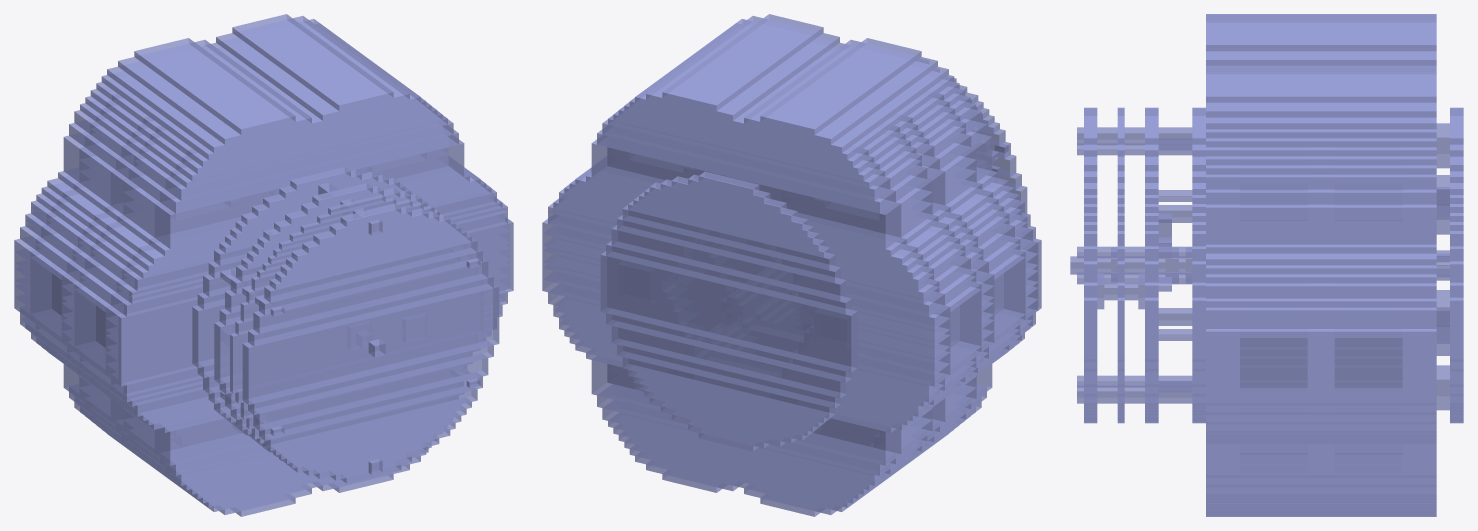
3 renders of one model, left to right at view 1: azimuth 30°, elevation 25°; view 2: azimuth 150°, elevation 25°; view 3: azimuth 270°, elevation 25°, orthographic. The views are drawn at different scales.
Visible parts, largest first — view 1: cell_union_687, cell_union_531, cell_union_499, cell_union_504, cell_union_502, cell_union_539, cell_union_501, cell_union_503, cell_union_498, cell_union_686, cell_union_518, cell_union_677 (+101 smaller); view 2: cell_union_25, cell_union_504, cell_union_87, cell_union_502, cell_union_501, cell_union_503, cell_union_499, cell_union_74, cell_union_498, cell_union_24, cell_union_15, cell_union_71 (+111 smaller); view 3: cell_union_502, cell_union_504, cell_union_503, cell_union_501, cell_union_499, cell_union_97, cell_union_311, cell_union_498, cell_union_40, cell_union_512, cell_union_188, cell_union_161 (+156 smaller).
Boxes of the visible parts, x1,y1,x2,y2 form: cell_union_687: [242, 283, 499, 404]; cell_union_531: [154, 136, 464, 249]; cell_union_499: [118, 39, 311, 144]; cell_union_504: [107, 19, 420, 152]; cell_union_502: [216, 16, 409, 120]; cell_union_539: [118, 220, 513, 386]; cell_union_501: [232, 14, 393, 111]; cell_union_503: [134, 38, 295, 134]; cell_union_498: [101, 47, 426, 159]; cell_union_686: [253, 354, 488, 430]; cell_union_518: [165, 119, 453, 200]; cell_union_677: [253, 257, 488, 333]; cell_union_25: [600, 251, 857, 372]; cell_union_504: [635, 19, 948, 152]; cell_union_87: [591, 136, 901, 249]; cell_union_502: [646, 16, 839, 120]; cell_union_501: [662, 14, 823, 111]; cell_union_503: [760, 38, 921, 134]; cell_union_499: [744, 39, 937, 144]; cell_union_74: [597, 127, 895, 213]; cell_union_498: [629, 47, 954, 159]; cell_union_24: [611, 326, 846, 398]; cell_union_15: [611, 225, 846, 301]; cell_union_71: [591, 356, 901, 465]; cell_union_502: [1206, 65, 1436, 117]; cell_union_504: [1206, 51, 1436, 129]; cell_union_503: [1206, 16, 1436, 51]; cell_union_501: [1206, 68, 1436, 102]; cell_union_499: [1206, 14, 1436, 65]; cell_union_97: [1334, 333, 1402, 399]; cell_union_311: [1240, 332, 1307, 399]; cell_union_498: [1206, 118, 1436, 138]; cell_union_40: [1402, 205, 1436, 253]; cell_union_512: [1206, 205, 1239, 253]; cell_union_188: [1334, 221, 1402, 244]; cell_union_161: [1334, 209, 1402, 232].
Bounding box in the file's own units: 720 × 680 × 580.
